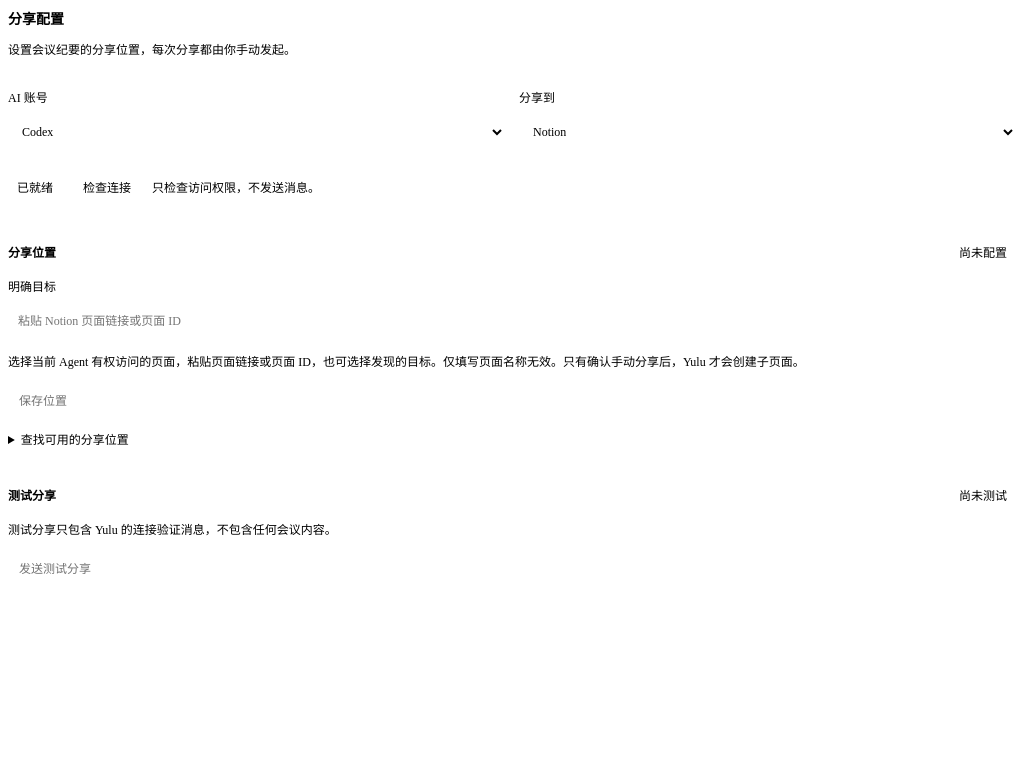
SharingSettings › explains exact page links and submits the pasted value without silently sending
The width and height of the screenshot is (1024, 768).
Expected: the text "选择当前 Agent 有权访问的页面，粘贴页面链接或页面 ID，也可选择发现的目标。仅填写页面名称无效。只有确认手动分享后，Yulu 才会创建子页面。" is shown, top-left (8, 355), bottom-right (805, 369)
In the field with placeholder "粘贴 Notion 页面链接或页面 ID": [512, 321] box top-left (8, 302), bottom-right (1016, 340), type "https://app.notion.com/p/0123456789abcdef0123456789abcdef?pvs=204"
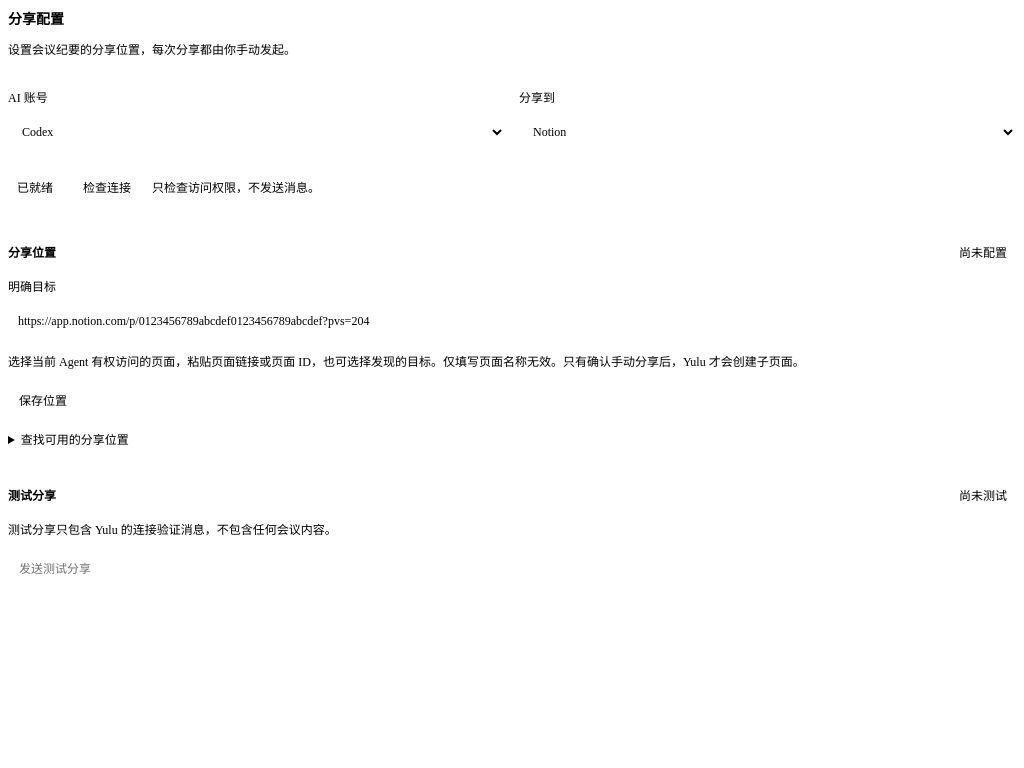
Click the button "保存位置": [43, 400] box top-left (8, 382), bottom-right (78, 418)
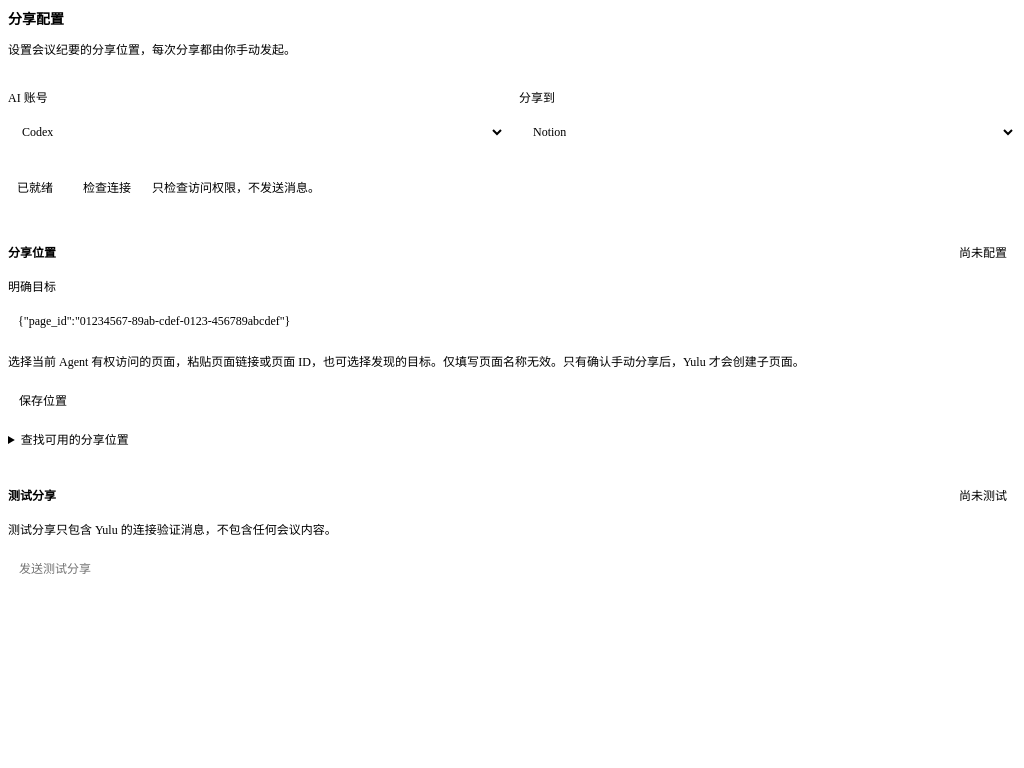
Now the field with placeholder "粘贴 Notion 页面链接或页面 ID" holds "{\"page_id\":\"01234567-89ab-cdef-0123-456789abcdef\"}", box top-left (8, 302), bottom-right (1016, 340)
